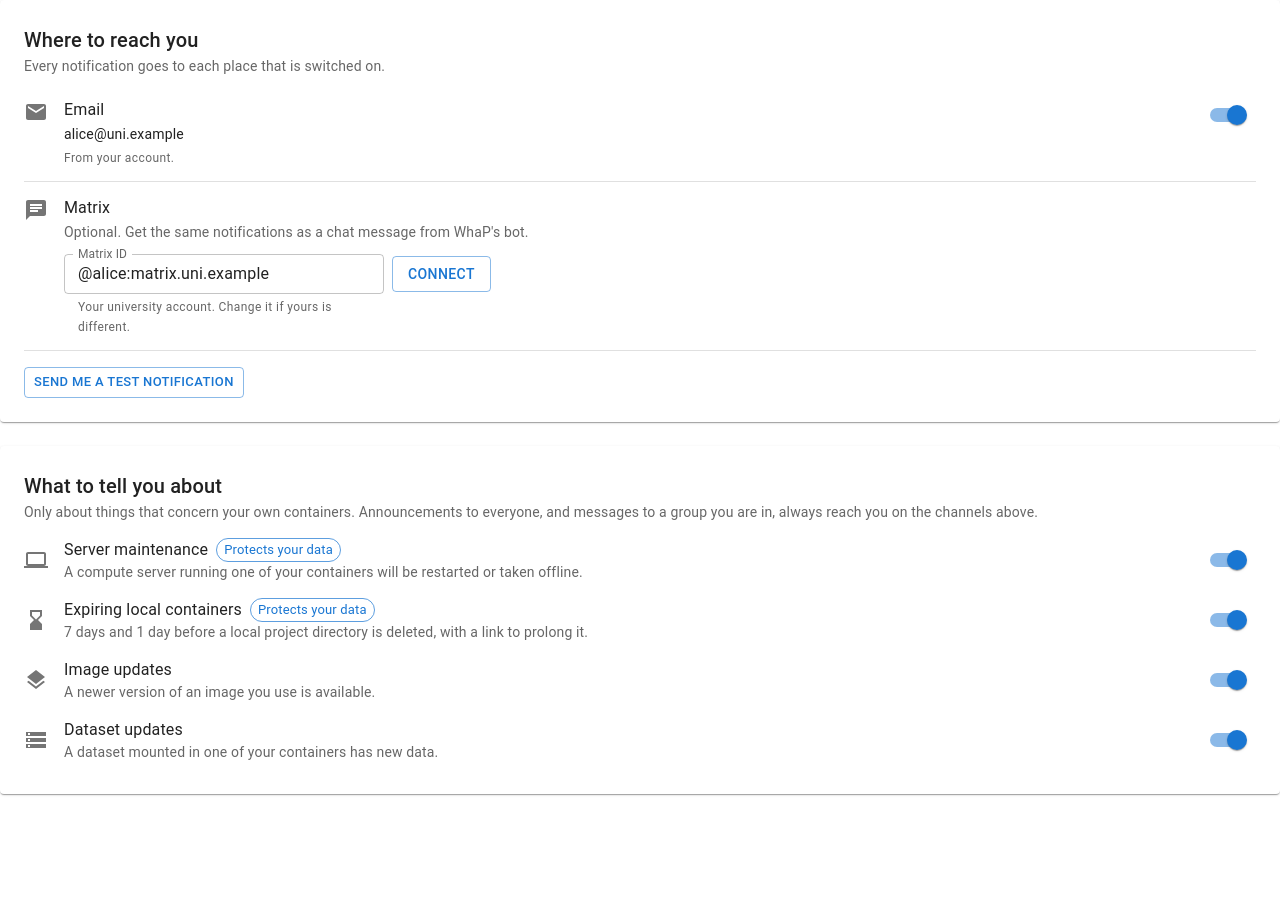
Test: a topic switch is saved at once
This screenshot has width=1280, height=900.
Expected: the heading "Where to reach you" is shown, [24,28,198,52]
What coordinates should you click on to do the following:
click the switch with test id "settings-topic-image"
I would click on:
 (1237, 680)
Its box is [1227,670,1247,690].
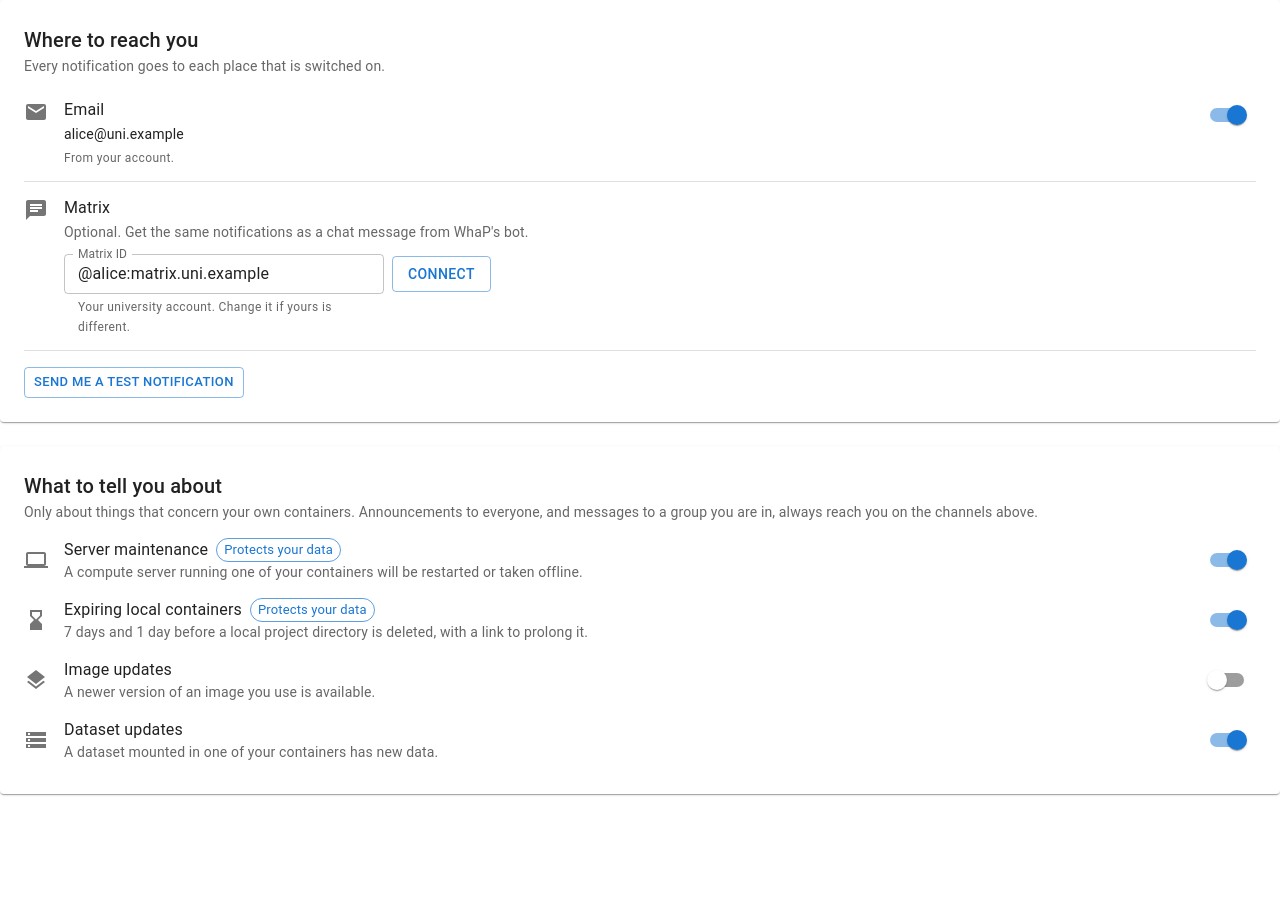
Expected: the switch with test id "settings-topic-image" is not checked, [1207,670,1227,690]
